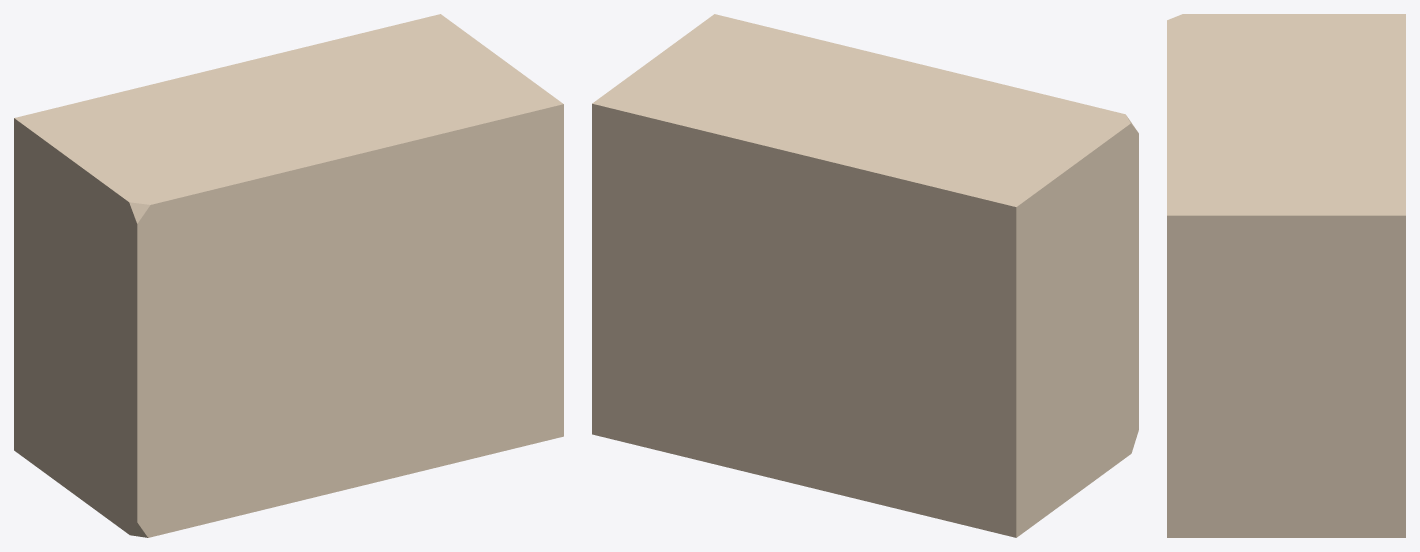
3 renders of one model, left to right at view 1: azimuth 30°, elevation 25°; view 2: azimuth 150°, elevation 25°; view 3: azimuth 270°, elevation 25°, orthographic. The views are drawn at different scales.
Visible parts, largest first — view 1: object3.004; view 2: object3.004; view 3: object3.004.
Part boxes in pixels (<box>): object3.004: <box>14,14,563,537</box>; object3.004: <box>592,14,1138,537</box>; object3.004: <box>1167,14,1405,537</box>.
Size of the model in its own units: 0.3 by 0.2234 by 0.15.
